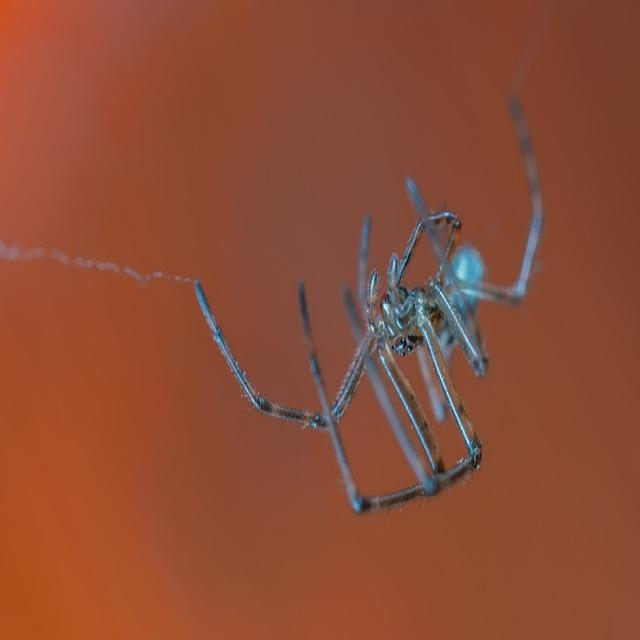spyder: (195, 100, 542, 513)
